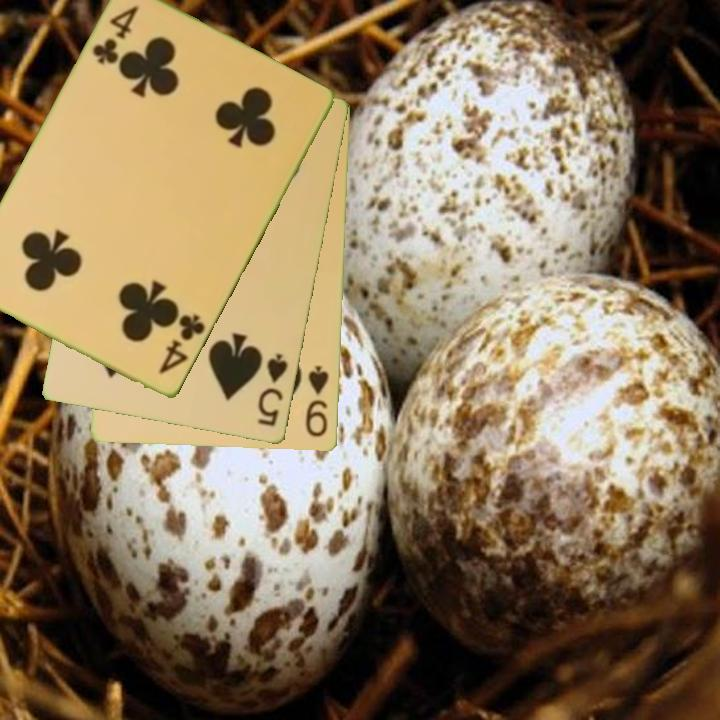4c: (155, 311, 209, 378), (88, 2, 142, 69)
5s: (254, 350, 292, 430)
9s: (302, 363, 332, 440)
